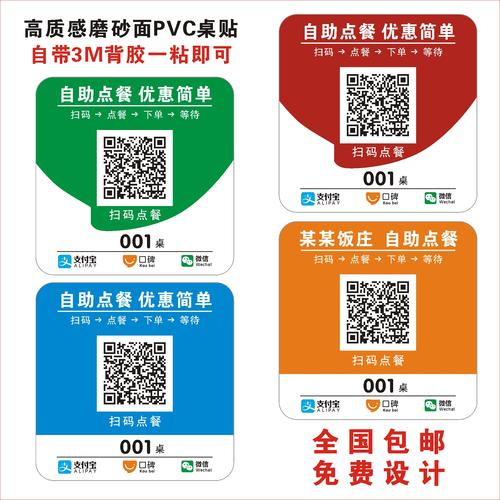QRCode: (98, 340, 174, 409), (99, 132, 169, 204), (346, 71, 412, 143), (344, 277, 411, 344)
